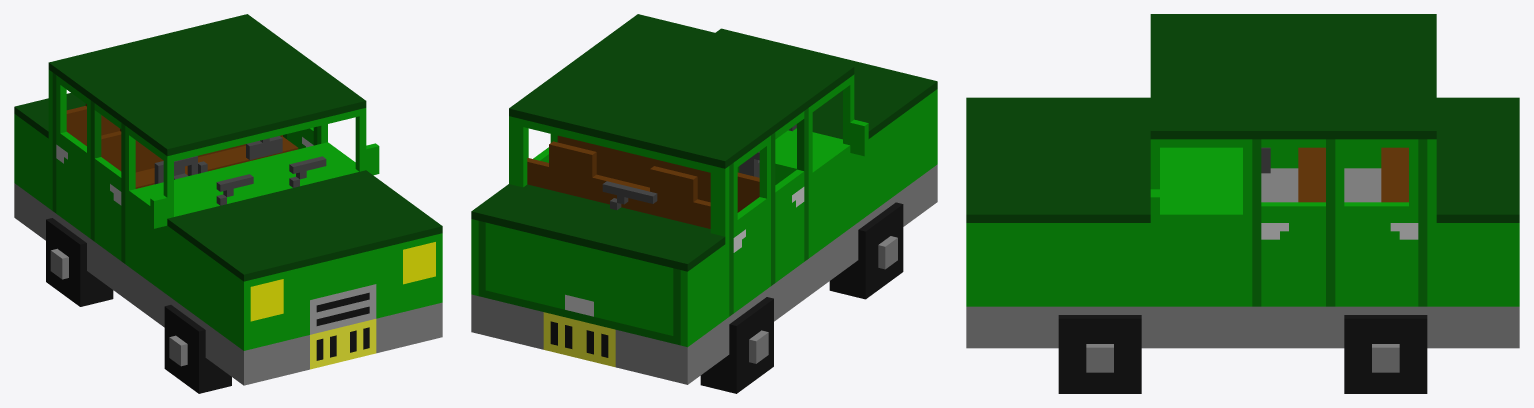
The model's file is Greencar.fbx.
3 renders of one model, left to right at view 1: azimuth 30°, elevation 25°; view 2: azimuth 150°, elevation 25°; view 3: azimuth 270°, elevation 25°, orthographic. The views are drawn at different scales.
Visible parts, largest first — view 1: greencar; view 2: greencar; view 3: greencar.
Boxes of the visible parts, x1,y1,x2,y2 form: greencar: (14,14,442,393); greencar: (471,14,937,393); greencar: (966,14,1519,393).
Bounding box in the file's own units: 3400 × 3100 × 6000.
Materials: 1 (1 with a texture image).
